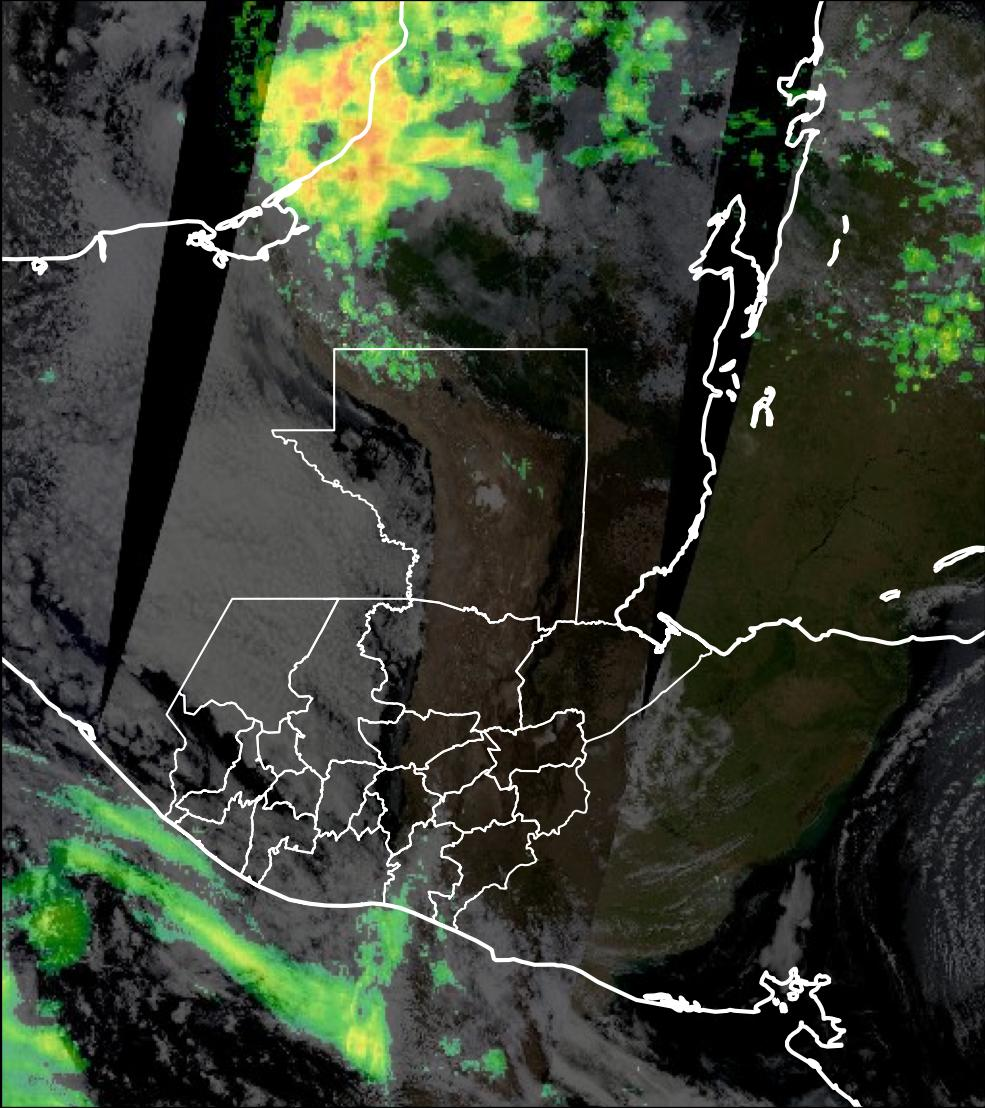precipitacion: (262, 77, 409, 209)
